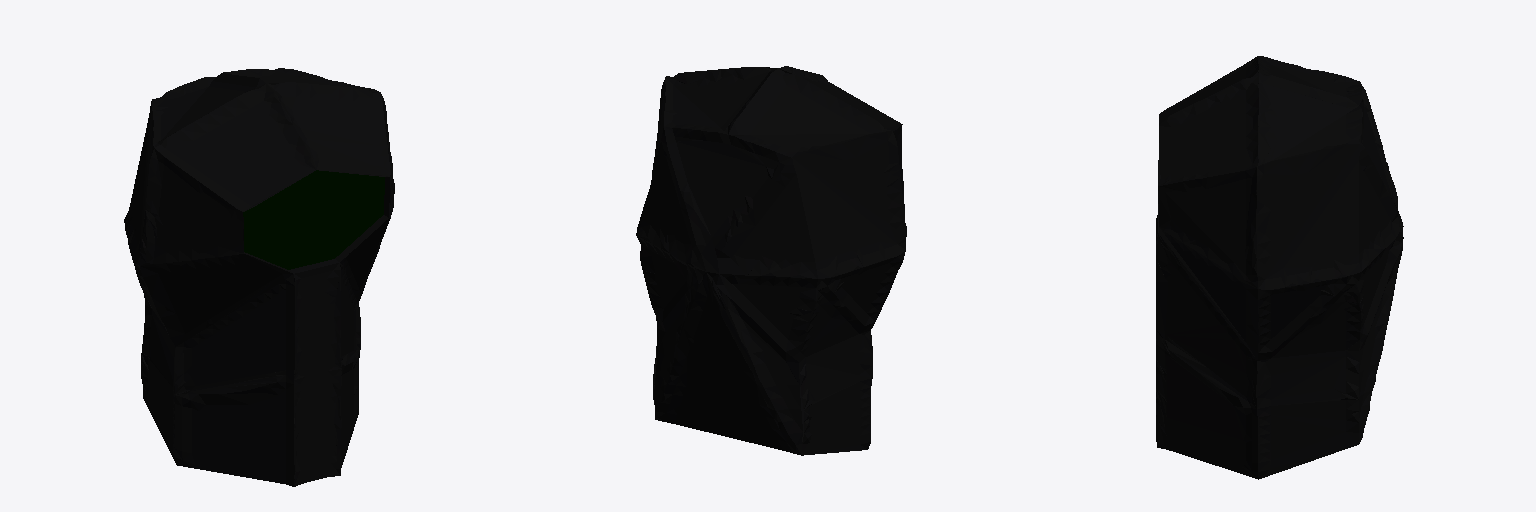
File: playing.obj
3 renders of one model, left to right at view 1: azimuth 30°, elevation 25°; view 2: azimuth 150°, elevation 25°; view 3: azimuth 270°, elevation 25°, orthographic.
Visible parts, largest first — view 1: Cube; view 2: Cube; view 3: Cube.
Part boxes in pixels (x1,y1,x2,y2): Cube: (124,68,394,486); Cube: (636,66,906,455); Cube: (1156,56,1403,479).
Size of the model in its own units: 6.25 by 8.46 by 5.26.